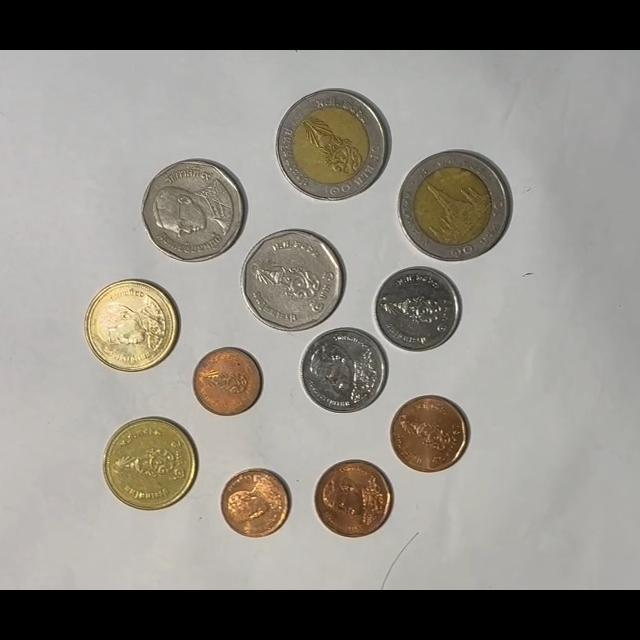1-baht: (299, 326, 388, 414), (374, 265, 461, 352)
10-baht: (275, 88, 389, 203), (397, 150, 511, 261)
2-baht: (103, 417, 198, 511), (84, 279, 178, 373)
25-satang: (220, 468, 291, 538), (192, 347, 263, 416)
5-baht: (141, 159, 246, 263), (242, 229, 345, 332)
50-satang: (313, 460, 393, 539), (390, 395, 470, 473)
